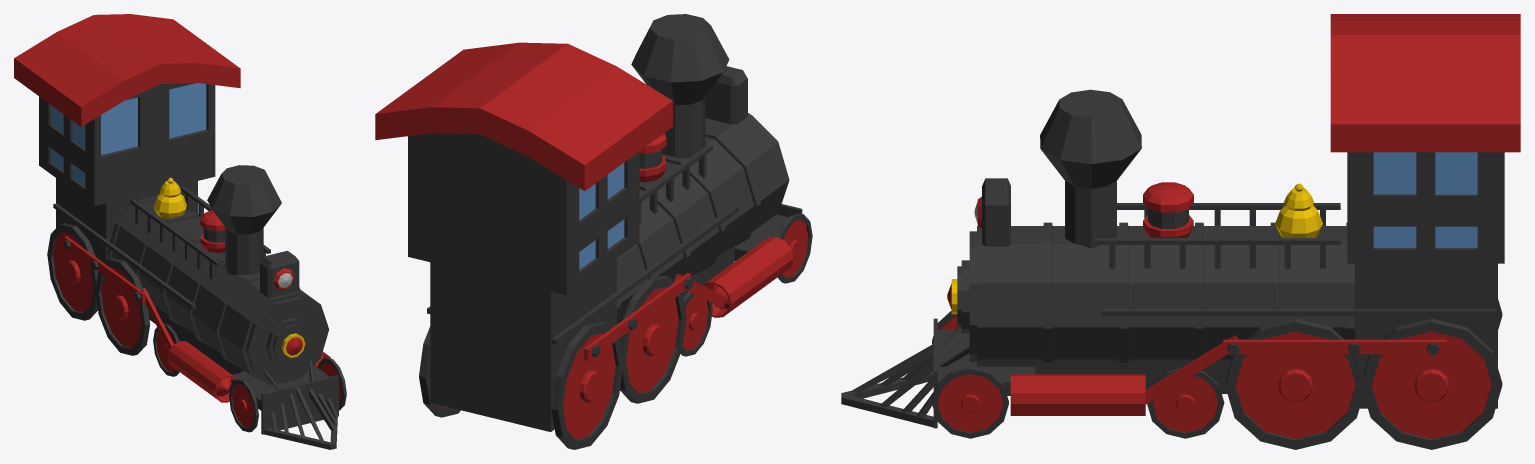
File: TrainLock.fbx
3 views of the same model, side by side, from view 1: azimuth 30°, elevation 25°; view 2: azimuth 150°, elevation 25°; view 3: azimuth 270°, elevation 25° (orthographic). The views are drawn at different scales.
Parts seen in each view (by area): view 1: TrainMain, WheelFrontBig, WheelBackBig, WheelSmallFront, BewegeDingHinten, WheelBackSmall, BewegeDingVorne; view 2: TrainMain, WheelBackBig, WheelFrontBig, BewegeDingHinten, WheelSmallFront, WheelBackSmall, BewegeDingVorne; view 3: TrainMain, WheelBackBig, WheelFrontBig, WheelSmallFront, WheelBackSmall, BewegeDingHinten, BewegeDingVorne.
Boxes of the visible parts, x1,y1,x2,y2 form: TrainMain: [14, 14, 338, 449]; WheelFrontBig: [95, 258, 150, 355]; WheelBackBig: [47, 223, 98, 320]; WheelSmallFront: [229, 357, 346, 432]; BewegeDingHinten: [63, 236, 149, 302]; WheelBackSmall: [153, 324, 179, 376]; BewegeDingVorne: [141, 288, 173, 349]; TrainMain: [375, 14, 802, 431]; WheelBackBig: [419, 321, 622, 449]; WheelFrontBig: [619, 275, 686, 403]; BewegeDingHinten: [584, 273, 693, 361]; WheelSmallFront: [777, 213, 812, 283]; WheelBackSmall: [680, 291, 712, 356]; BewegeDingVorne: [674, 273, 726, 307]; TrainMain: [841, 14, 1520, 428]; WheelBackBig: [1362, 299, 1502, 449]; WheelFrontBig: [1225, 318, 1365, 449]; WheelSmallFront: [932, 311, 1008, 438]; WheelBackSmall: [1147, 368, 1224, 438]; BewegeDingHinten: [1223, 337, 1446, 354]; BewegeDingVorne: [1145, 335, 1238, 404].
Size of the model in its own units: 365 by 585 by 952.
